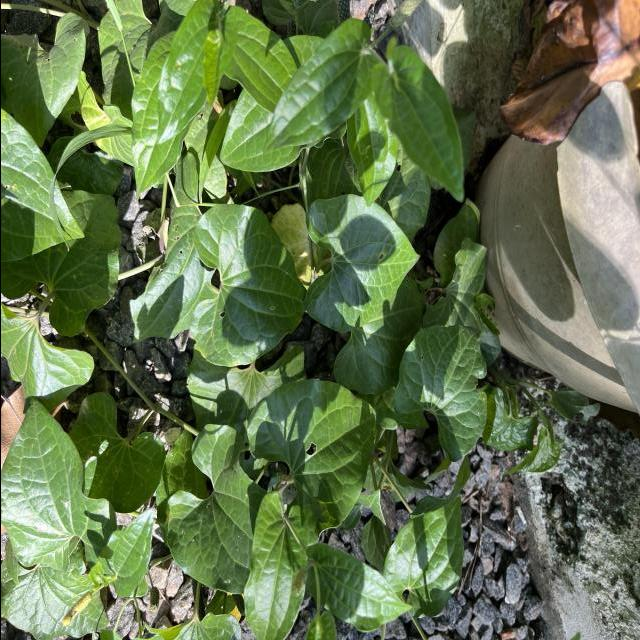Piper longum: (0, 394, 119, 576), (188, 202, 306, 368), (302, 192, 422, 336), (390, 322, 489, 463)
